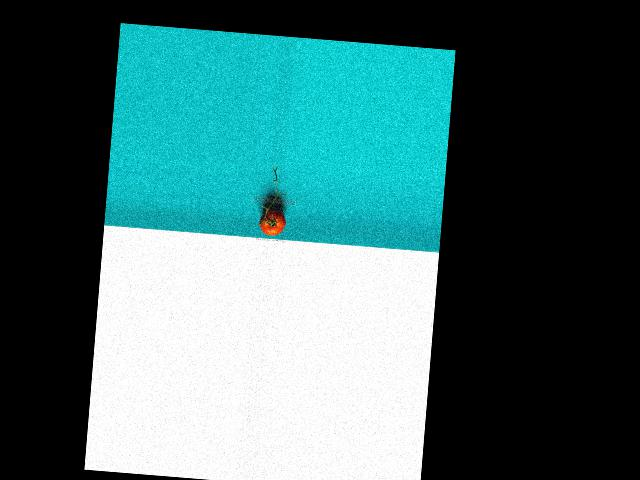tomato: (257, 208, 286, 236)
